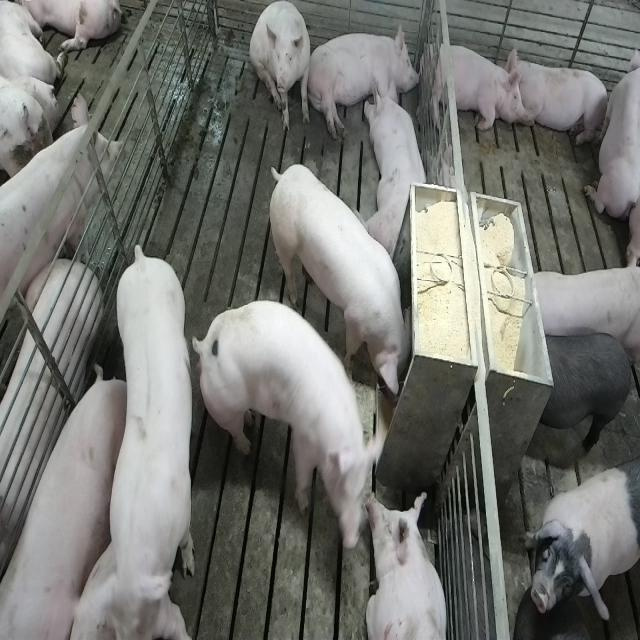Feeding: (194, 298, 386, 552), (272, 162, 420, 404)
Lateral_lying: (0, 264, 99, 608), (306, 20, 422, 142)
Sitting: (250, 1, 312, 134)
Standing: (82, 244, 198, 638), (0, 95, 121, 348), (524, 459, 638, 625), (530, 328, 636, 466), (525, 268, 637, 369)
Sternal_lying: (366, 491, 449, 640), (366, 75, 431, 259), (584, 34, 638, 230), (509, 51, 611, 149), (425, 36, 523, 134)
